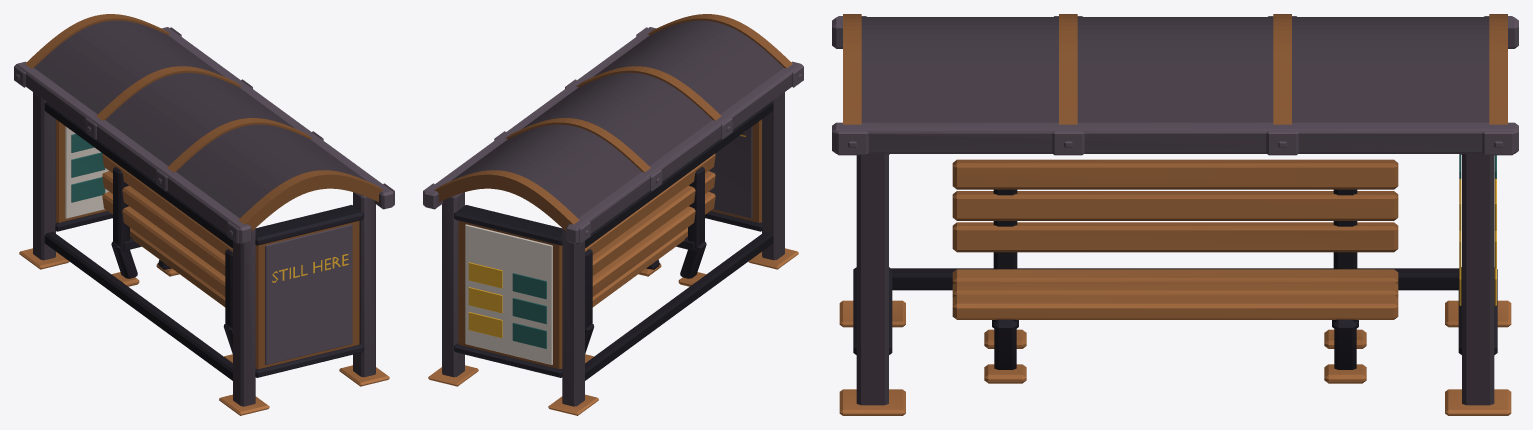
The model's file is bld.bus-stop.glb.
3 views of the same model, side by side, from view 1: azimuth 30°, elevation 25°; view 2: azimuth 150°, elevation 25°; view 3: azimuth 270°, elevation 25° (orthographic). The views are drawn at different scales.
Visible parts, largest first — view 1: body, roof; view 2: body, roof; view 3: body, roof.
Boxes of the visible parts, left/top/right/bottom form: body: left=19, top=92, right=389, bottom=415; roof: left=14, top=14, right=394, bottom=243; body: left=428, top=92, right=798, bottom=415; roof: left=423, top=14, right=803, bottom=243; body: left=839, top=154, right=1511, bottom=415; roof: left=832, top=14, right=1518, bottom=155.
Size of the model in its own units: 2.04 by 2.68 by 4.97.
